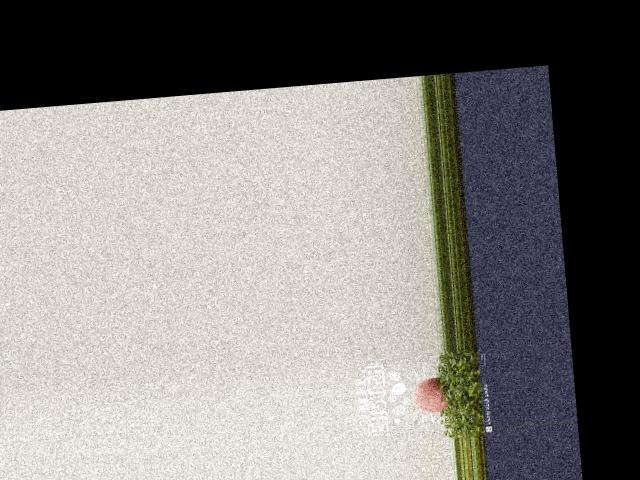egg: (411, 375, 448, 413)
